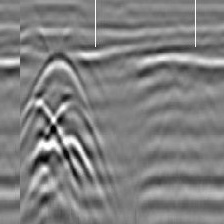Utility: (20, 50, 109, 224)
